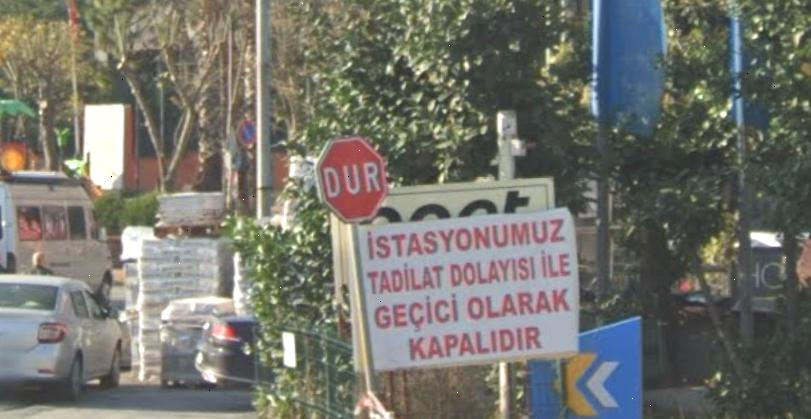stop: (312, 132, 395, 224)
